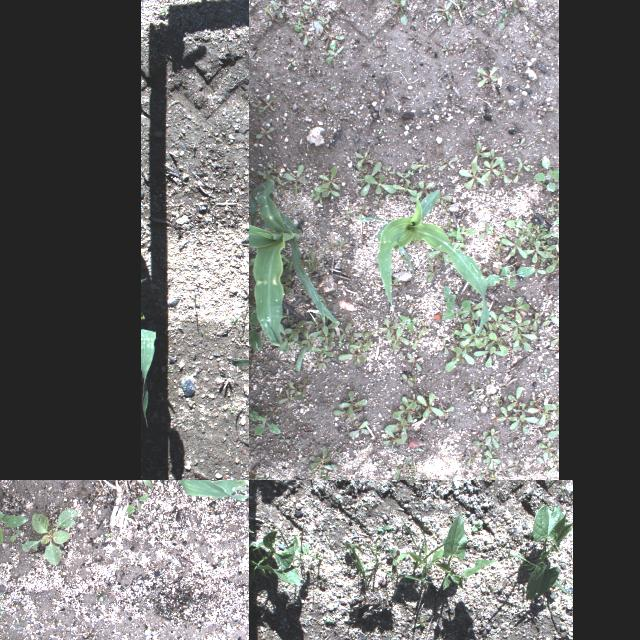crop: (378, 190, 488, 338), (249, 180, 339, 345), (523, 504, 573, 600), (140, 330, 156, 426)
weed: (438, 511, 498, 591), (249, 529, 322, 585), (388, 538, 454, 584), (22, 508, 76, 564), (0, 484, 27, 543), (482, 265, 536, 289), (442, 286, 473, 322), (534, 156, 558, 192), (345, 541, 369, 577), (249, 407, 278, 436), (361, 160, 383, 198), (284, 164, 308, 196), (339, 392, 367, 418), (502, 297, 530, 323), (460, 162, 486, 190), (473, 347, 507, 368), (365, 173, 397, 195), (249, 289, 260, 351), (474, 64, 500, 90), (393, 396, 417, 424), (213, 480, 248, 499), (308, 319, 340, 339), (416, 392, 442, 416), (525, 240, 553, 262), (472, 142, 493, 170), (307, 448, 331, 472), (527, 404, 551, 428), (502, 237, 528, 259), (462, 322, 483, 348), (124, 494, 148, 516), (514, 331, 538, 351), (326, 40, 344, 66), (426, 247, 452, 265), (384, 418, 406, 439), (292, 27, 316, 46), (338, 348, 366, 364), (316, 326, 332, 354), (510, 417, 538, 433), (508, 554, 540, 568), (489, 332, 509, 354), (378, 317, 398, 339), (284, 320, 306, 340), (431, 407, 455, 425), (354, 144, 372, 168), (445, 346, 463, 370), (433, 1, 452, 23), (458, 340, 474, 366), (286, 381, 306, 401), (483, 158, 503, 178), (320, 168, 340, 188), (393, 180, 419, 194), (491, 310, 509, 330), (264, 7, 282, 26), (399, 314, 418, 332), (322, 29, 343, 45), (392, 0, 406, 23), (418, 181, 434, 201), (464, 303, 484, 319), (392, 329, 408, 349), (448, 226, 477, 237), (546, 249, 558, 275), (488, 444, 500, 470), (348, 422, 370, 436), (278, 334, 296, 351), (512, 322, 530, 338), (254, 127, 274, 141), (298, 378, 312, 398), (438, 157, 458, 171), (514, 136, 528, 156), (453, 230, 467, 250), (508, 388, 522, 408), (304, 0, 319, 18), (511, 0, 530, 14), (125, 480, 163, 487), (314, 186, 340, 196), (536, 231, 552, 247), (278, 390, 296, 404), (411, 159, 432, 171), (479, 222, 493, 240), (475, 330, 493, 344), (463, 340, 477, 358), (302, 331, 314, 352), (411, 329, 422, 351), (426, 262, 438, 282), (308, 250, 318, 274), (487, 428, 499, 448), (0, 588, 7, 621), (311, 347, 334, 357), (433, 191, 452, 203), (407, 354, 421, 370), (468, 383, 482, 399), (516, 158, 532, 172), (500, 407, 516, 421), (410, 614, 426, 628), (349, 342, 371, 352), (538, 442, 556, 454), (512, 164, 524, 182), (496, 162, 506, 182), (489, 146, 499, 166), (506, 220, 526, 230), (518, 403, 532, 417), (382, 438, 406, 446), (401, 374, 417, 386), (280, 278, 292, 294), (531, 312, 541, 331), (316, 294, 329, 308), (538, 452, 548, 470), (543, 312, 555, 326), (546, 424, 558, 438), (8, 530, 22, 542), (369, 540, 378, 558), (250, 99, 266, 109), (321, 17, 331, 33), (340, 324, 350, 340), (276, 1, 290, 12), (355, 166, 369, 177), (402, 574, 421, 582), (277, 176, 285, 194), (318, 358, 330, 370), (547, 204, 559, 216), (520, 224, 532, 236), (264, 95, 274, 109), (265, 162, 279, 172), (397, 344, 407, 358), (396, 173, 410, 183), (465, 452, 475, 466), (318, 260, 329, 272), (549, 461, 559, 474), (533, 225, 549, 233), (472, 440, 488, 448), (161, 4, 171, 16), (509, 459, 519, 471), (311, 191, 321, 203), (472, 520, 482, 532), (533, 268, 547, 276), (493, 394, 501, 408), (309, 317, 319, 328), (443, 337, 449, 355), (384, 166, 394, 176), (320, 474, 336, 480), (496, 242, 504, 254), (479, 398, 488, 407), (551, 335, 559, 345), (354, 332, 374, 336), (553, 404, 559, 416), (249, 522, 255, 534), (551, 317, 559, 325), (422, 322, 428, 332), (104, 532, 114, 538), (405, 525, 411, 535), (337, 448, 341, 462), (473, 411, 479, 419), (220, 557, 228, 563), (374, 562, 380, 570), (141, 310, 145, 320), (168, 367, 174, 373), (336, 382, 342, 388), (542, 370, 548, 376), (229, 408, 237, 412), (406, 170, 414, 174), (420, 528, 424, 536), (249, 478, 262, 480), (554, 218, 558, 224), (162, 520, 168, 524), (234, 318, 236, 324)
